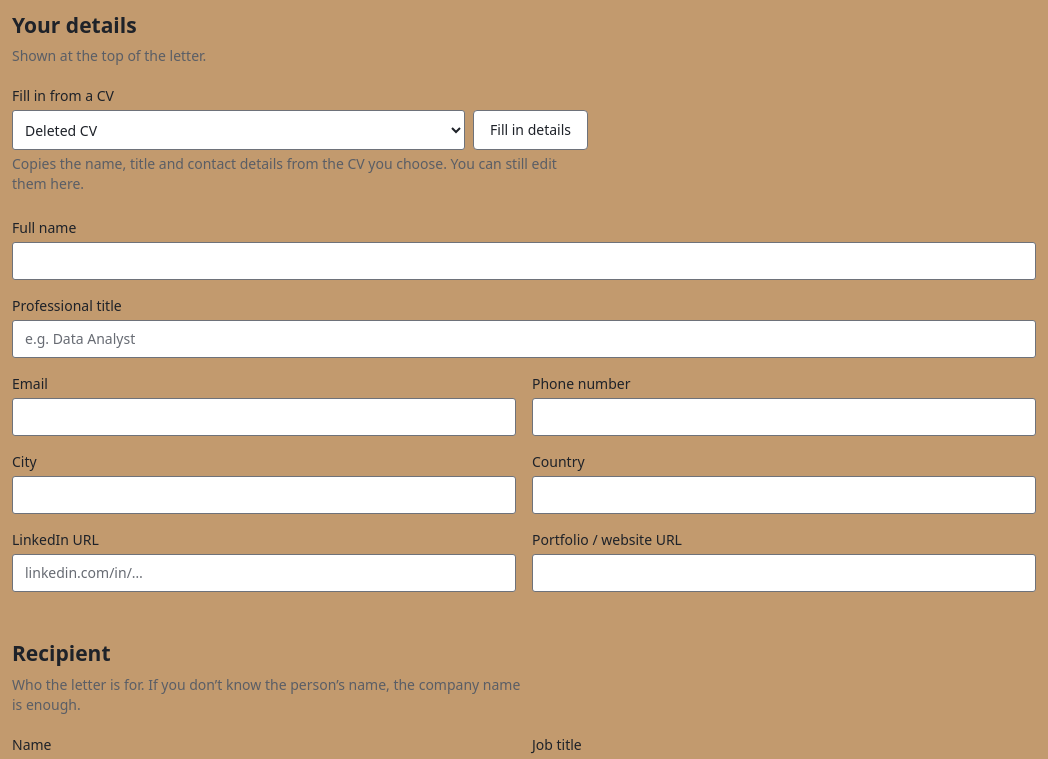
Test case: LetterForm fill in from a CV › reports a CV that can't be opened and leaves the letter unchanged
This screenshot has width=1048, height=759.
Click the button "Fill in details". click: [530, 130]
box: x1=473 y1=110 x2=588 y2=150
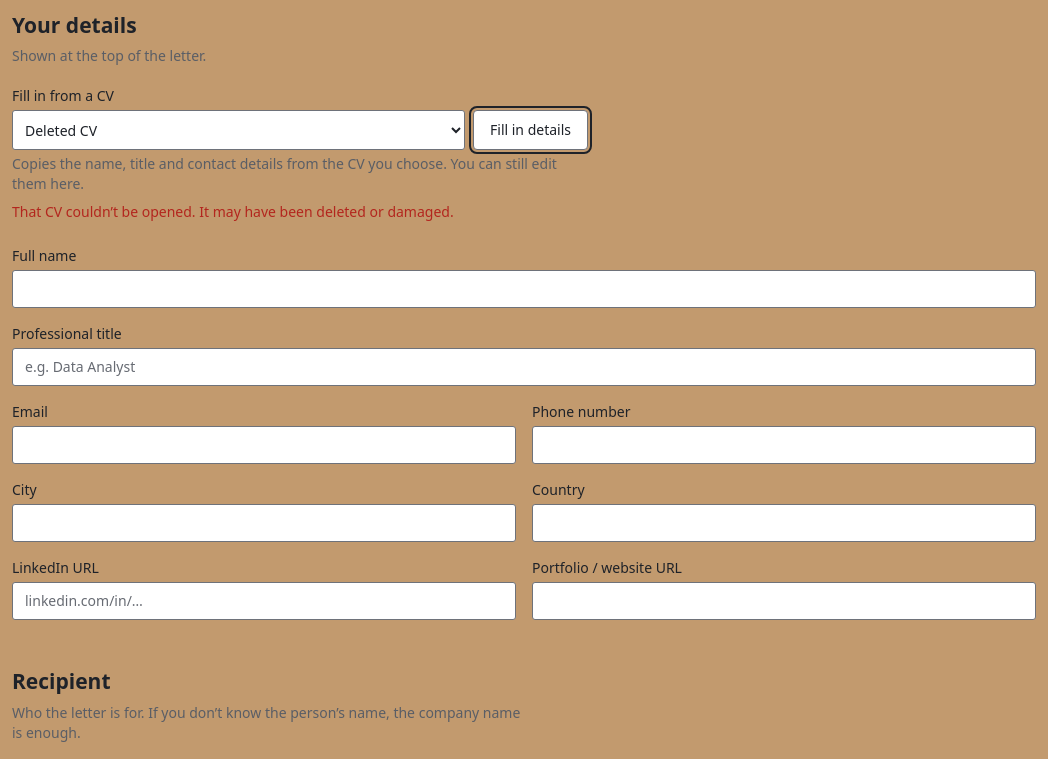
expect the message reads "That CV couldn’t be opened. It may have been deleted or damaged.": met, box x1=12 y1=202 x2=454 y2=221
